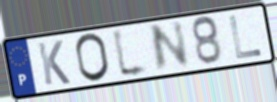8: (190, 15, 224, 68)
K: (35, 39, 72, 87)
L: (110, 25, 153, 81), (227, 14, 264, 61)
N: (148, 18, 192, 75)
O: (74, 32, 112, 84)
